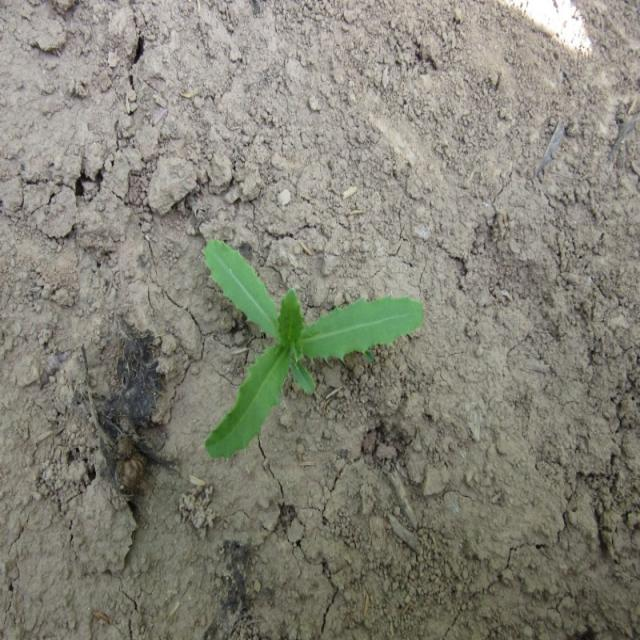field_thistle: (184, 228, 398, 464)
